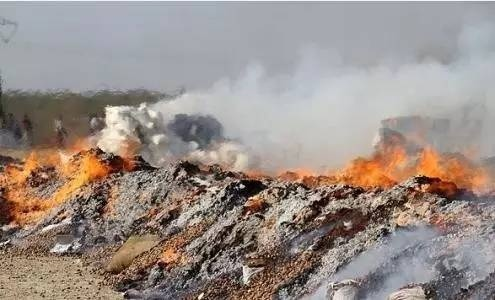fire: (264, 131, 490, 194), (0, 130, 112, 226)
